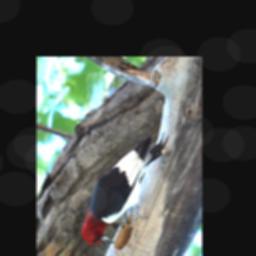Woodpecker: (83, 132, 171, 247)
